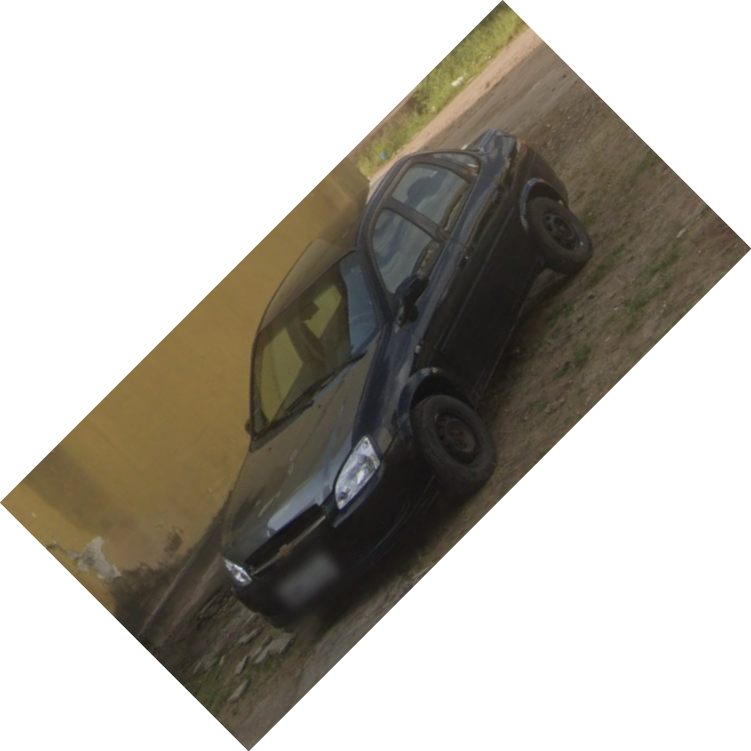car: (218, 130, 593, 615)
